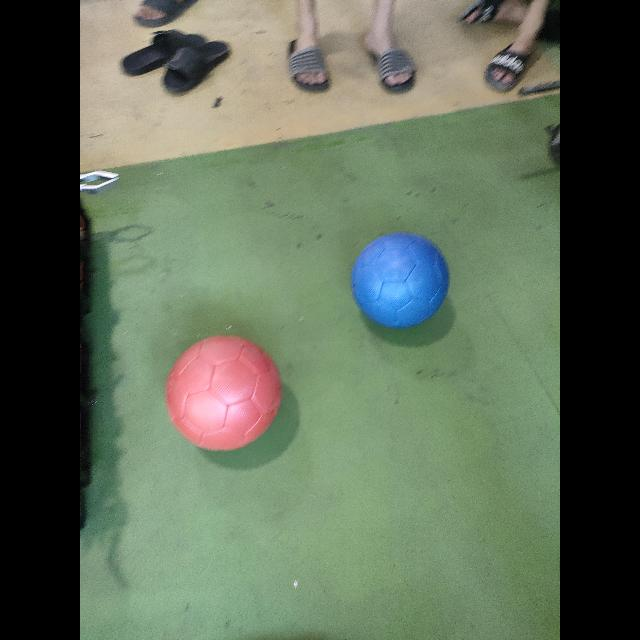B: (353, 232, 451, 330)
R: (167, 336, 283, 450)
